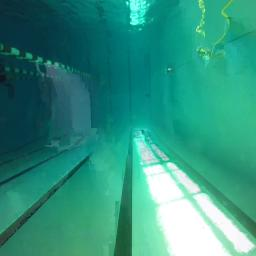Full: (166, 66, 173, 73)
